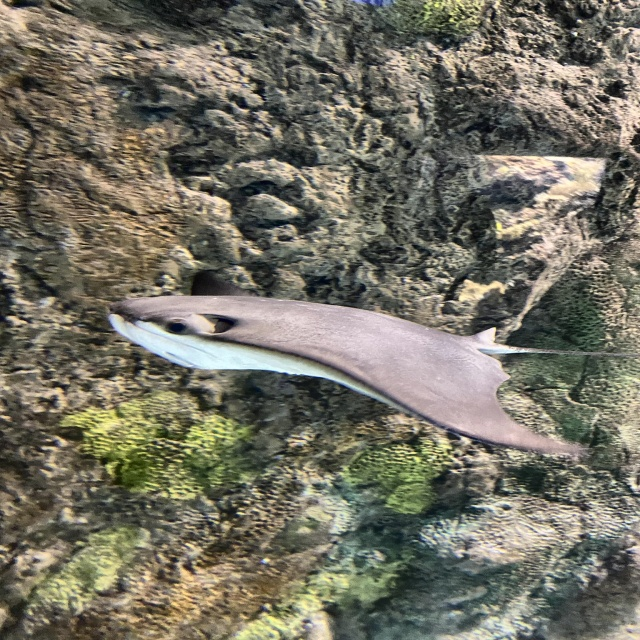stingray: (107, 294, 578, 460)
